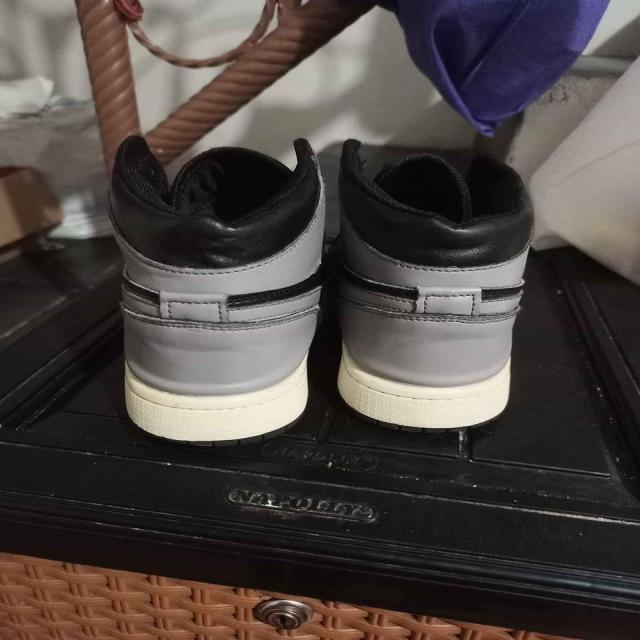nike fake jordan 1: (112, 138, 334, 448), (321, 134, 541, 430)
